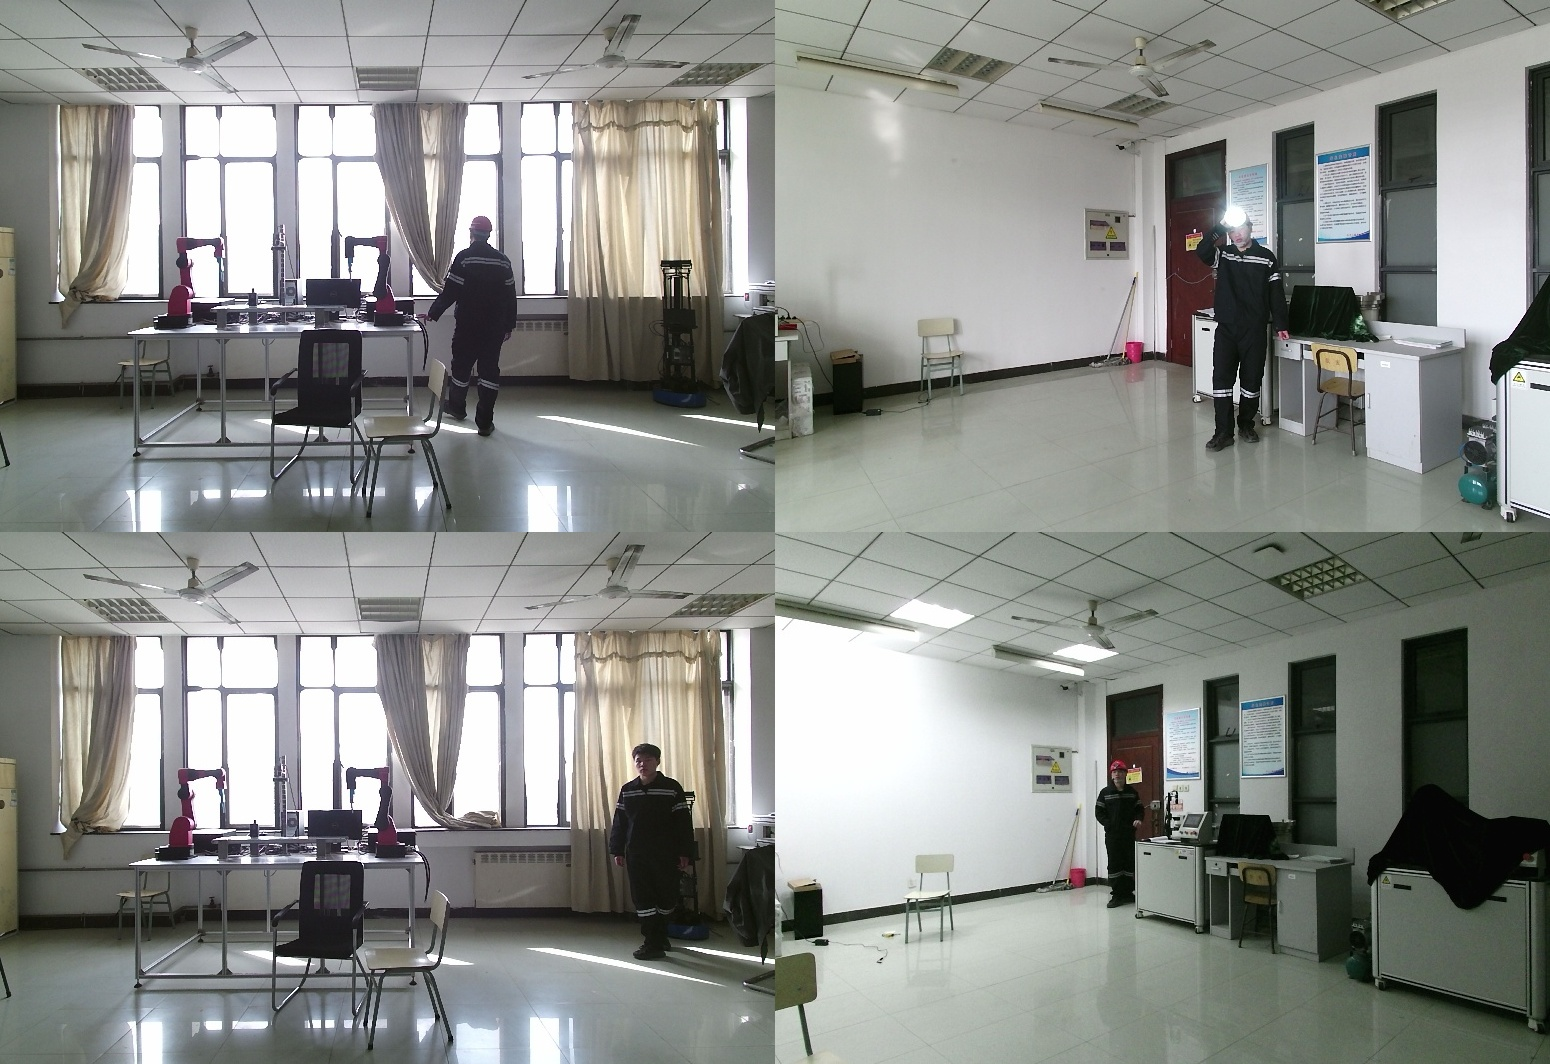person: (417, 217, 523, 437), (1201, 207, 1296, 455), (614, 745, 706, 962), (1095, 762, 1152, 908)
